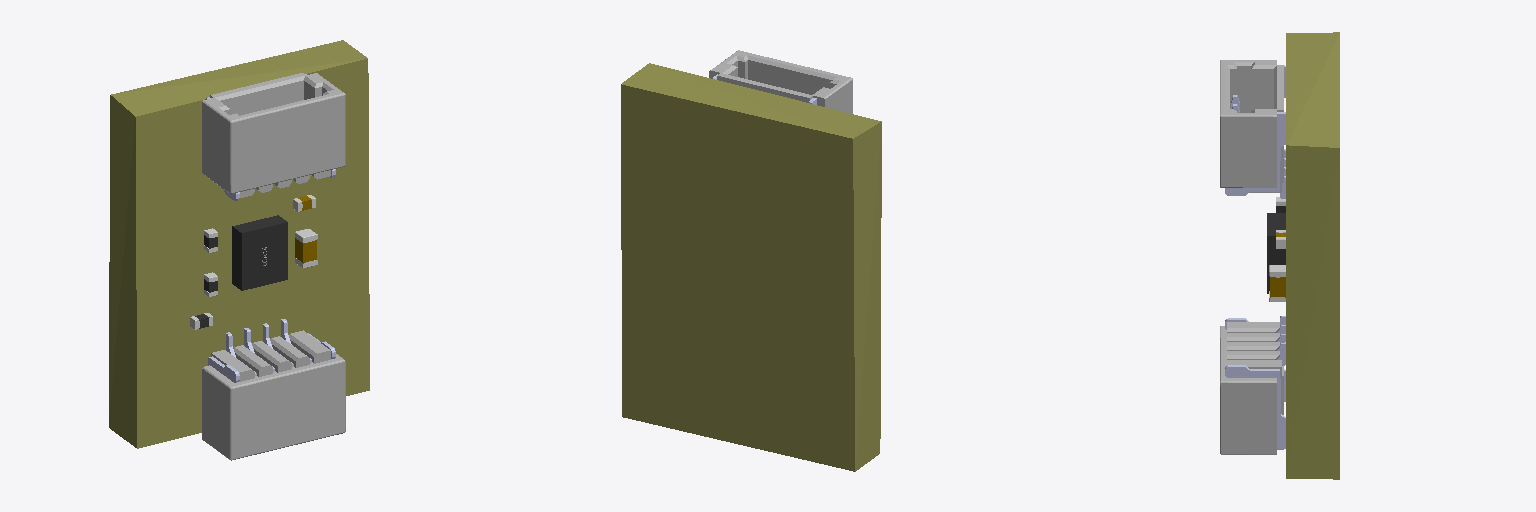
File: OBJ_PCB_BMI160-BRKOUT.obj
3 renders of one model, left to right at view 1: azimuth 30°, elevation 25°; view 2: azimuth 150°, elevation 25°; view 3: azimuth 270°, elevation 25°, orthographic.
Bounding box in the file's own units: 50.22 × 69.52 × 22.35.